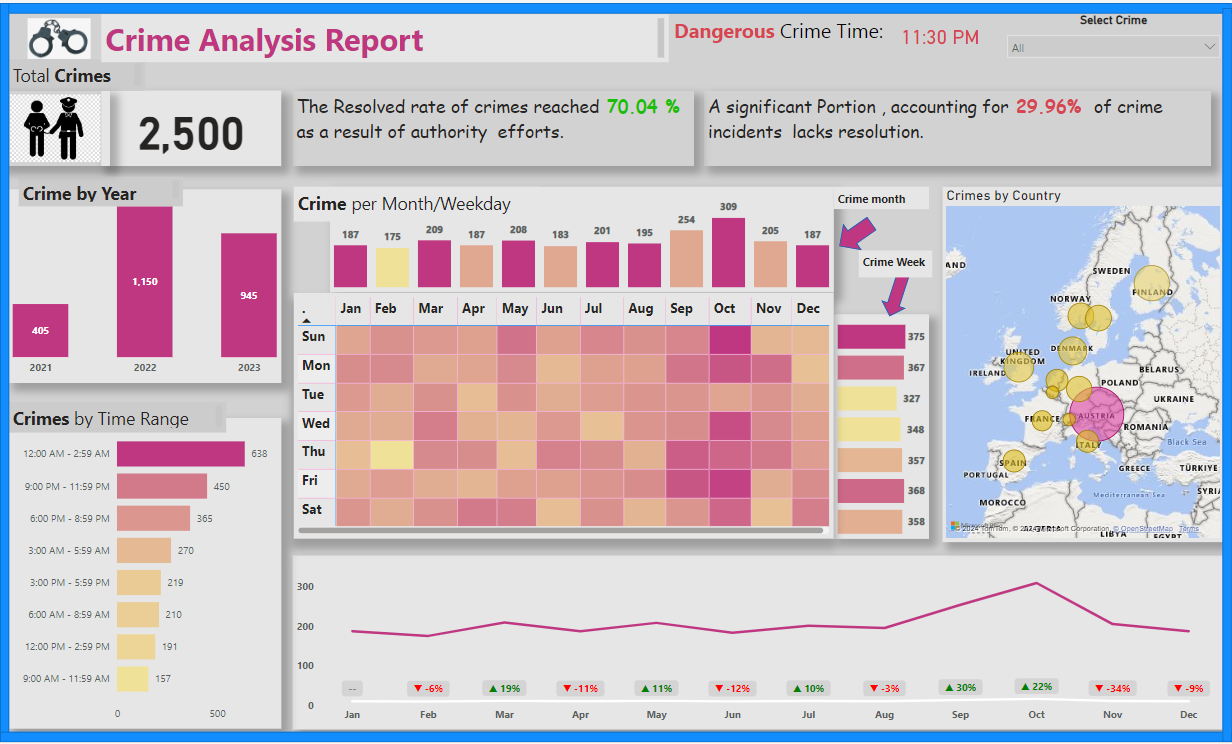

The page's visual inventory and layout, read from the dashboard file:
{"tool":"powerbi","page":{"name":"Dashboard","canvas":[1500,900],"ordinal":3},"visuals":[{"type":"columnChart","fields":{"Category":["Date Table.year"],"Y":["Calculations.Blank Measure(Year)","Calculations.Total Crimes"]},"box":[11.4,227.6,331.6,235.7],"z":0},{"type":"lineChart","fields":{"Category":["Date Table.month"],"Y":["Calculations.Blank Measure(Month)","Calculations.Total Crimes"]},"box":[357,672.2,1133.7,212.3],"z":1000},{"type":"clusteredBarChart","fields":{"Category":["Crime Data.Time Slot"],"Y":["Calculations.Total Crimes"]},"box":[11.4,505.5,331.6,378.7],"z":2000},{"type":"columnChart","fields":{"Category":["Date Table.month"],"Y":["Calculations.Total Crimes"]},"box":[401.3,224.3,613.7,128.6],"z":3000},{"type":"clusteredBarChart","fields":{"Y":["Calculations.Total Crimes"],"Category":["Date Table.Week day"]},"box":[1015,378.4,116.2,273.4],"z":4000},{"type":"pivotTable","fields":{"Rows":["Date Table.Week day"],"Columns":["Date Table.month"],"Values":["Calculations.Total Crimes"]},"box":[357.6,352.9,657.4,298.9],"z":5000},{"type":"textbox","box":[357,106.1,488.9,91.7],"z":6000},{"type":"textbox","box":[857.1,106.1,617.5,91.7],"z":7000},{"type":"slicer","title":"Select Crime","fields":{"Values":["Crime Types.Crime"]},"box":[1215.7,12.9,279.8,59.5],"z":8000},{"type":"map","title":"Crimes by Country","fields":{"Category":["Crime Data.Country"],"Size":["Calculations.Total Crimes"]},"box":[1148.2,223.5,342.5,432.6],"z":9000},{"type":"shape","box":[971.3,260,147,40.8],"z":10000},{"type":"textbox","box":[1015,224.3,116.2,27.5],"z":11000},{"type":"shape","box":[1073.6,268.2,36.7,166.3],"z":12000},{"type":"card","fields":{"Values":["Calculations.Total Crimes"]},"box":[124,106,219,92],"z":13000},{"type":"textbox","box":[11,68,166,38],"z":14000},{"type":"textbox","box":[11.4,486,265,37.4],"z":15000},{"type":"textbox","box":[22.8,211.3,199.9,35.8],"z":16000},{"type":"textbox","box":[1045.2,300.7,89.4,32.5],"z":17000},{"type":"textbox","box":[123.5,13,690.8,58.5],"z":18000},{"type":"textbox","box":[357.6,224.3,300.7,42.3],"z":19000},{"type":"image","box":[0,13,144,59],"z":20000},{"type":"card","fields":{"Values":["Min(Crime Data.Crime Time)"]},"box":[1068,13,153,55],"z":21000},{"type":"textbox","box":[815.3,12.9,395.6,59.5],"z":22000},{"type":"image","box":[0,106,134,92],"z":23000},{"type":"shape","box":[0,0,1500.3,12.9],"z":24000},{"type":"shape","box":[0,0,11.3,894.1],"z":25000},{"type":"shape","box":[0,887.7,1500.3,12.9],"z":26000},{"type":"shape","box":[1489.1,6.4,11.3,894.1],"z":27000}]}

Visuals, with their boxes in screenshot pixels (x1, y1, x2, y2), scaled from the page's 1500x900 canvas onto the 1232x744 screenshot:
columnChart - Date Table.year x Calculations.Blank Measure(Year): box=[9, 188, 282, 383]
lineChart - Date Table.month x Calculations.Blank Measure(Month): box=[293, 556, 1224, 731]
clusteredBarChart - Crime Data.Time Slot x Calculations.Total Crimes: box=[9, 418, 282, 731]
columnChart - Date Table.month x Calculations.Total Crimes: box=[330, 185, 834, 292]
clusteredBarChart - Calculations.Total Crimes x Date Table.Week day: box=[834, 313, 929, 539]
pivotTable - Date Table.Week day x Date Table.month: box=[294, 292, 834, 539]
textbox: box=[293, 88, 695, 164]
textbox: box=[704, 88, 1211, 164]
"Select Crime" slicer: box=[998, 11, 1228, 60]
"Crimes by Country" map: box=[943, 185, 1224, 542]
shape: box=[798, 215, 918, 249]
textbox: box=[834, 185, 929, 208]
shape: box=[882, 222, 912, 359]
card - Calculations.Total Crimes: box=[102, 88, 282, 164]
textbox: box=[9, 56, 145, 88]
textbox: box=[9, 402, 227, 433]
textbox: box=[19, 175, 183, 204]
textbox: box=[858, 249, 932, 275]
textbox: box=[101, 11, 669, 59]
textbox: box=[294, 185, 541, 220]
image: box=[0, 11, 118, 60]
card - Min(Crime Data.Crime Time): box=[877, 11, 1003, 56]
textbox: box=[670, 11, 995, 60]
image: box=[0, 88, 110, 164]
shape: box=[0, 0, 1231, 11]
shape: box=[0, 0, 9, 739]
shape: box=[0, 734, 1231, 743]
shape: box=[1223, 5, 1231, 743]
